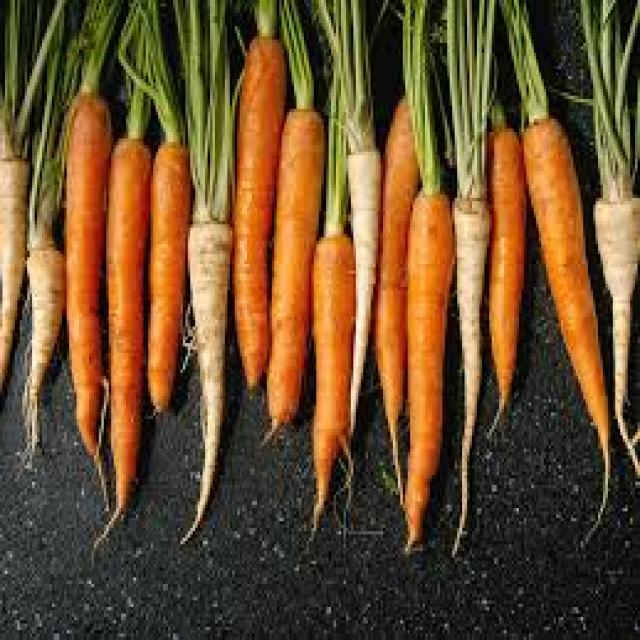Carrot: (262, 105, 324, 429), (64, 81, 109, 461)
